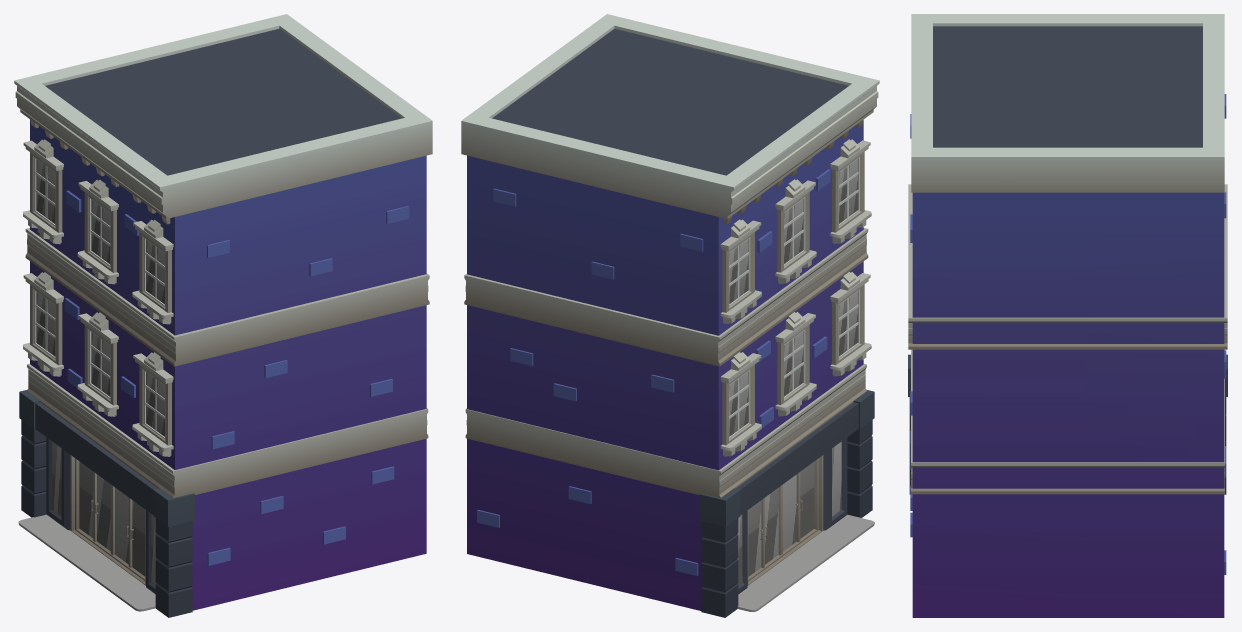
Rendered from Building_21_3_D.fbx.
3 renders of one model, left to right at view 1: azimuth 30°, elevation 25°; view 2: azimuth 150°, elevation 25°; view 3: azimuth 270°, elevation 25°, orthographic. The views are drawn at different scales.
Visible parts, largest first — view 1: Building_21_3_D; view 2: Building_21_3_D; view 3: Building_21_3_D.
Part boxes in pixels (box(x1,y1,x2,y2)): Building_21_3_D: box(14, 14, 432, 617); Building_21_3_D: box(461, 14, 879, 617); Building_21_3_D: box(908, 14, 1227, 617).
Size of the model in its own units: 779 by 1141 by 713.
